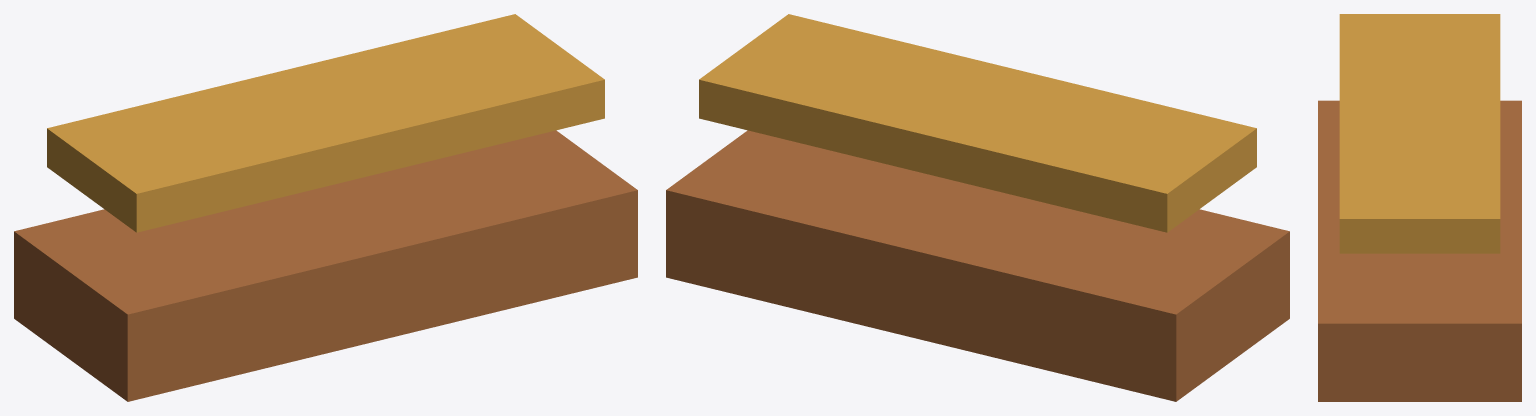
3 renders of one model, left to right at view 1: azimuth 30°, elevation 25°; view 2: azimuth 150°, elevation 25°; view 3: azimuth 270°, elevation 25°, orthographic. The views are drawn at different scales.
Parts seen in each view (by area): view 1: root_pal_woodWarm, root_pal_mustard; view 2: root_pal_woodWarm, root_pal_mustard; view 3: root_pal_mustard, root_pal_woodWarm.
Boxes of the visible parts, x1,y1,x2,y2 form: root_pal_woodWarm: [14, 130, 637, 401]; root_pal_mustard: [47, 14, 604, 232]; root_pal_woodWarm: [666, 130, 1289, 401]; root_pal_mustard: [699, 14, 1256, 232]; root_pal_mustard: [1339, 14, 1500, 253]; root_pal_woodWarm: [1318, 100, 1521, 401].
Bounding box in the file's own units: 2.2 × 0.8 × 0.85.
